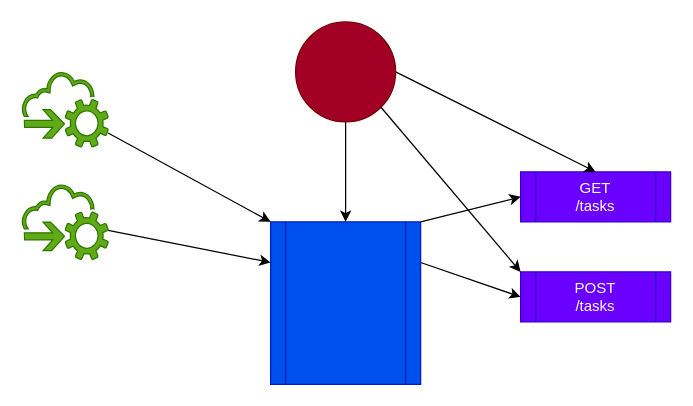
This 693x406 diagram has some shape labels left out. The shapes that lost their labels are listed below. From the top down, each one's centre as x and y in pixels, then its label:
the point at 345,71: ChannelWork
the point at 345,302: Http Handler
